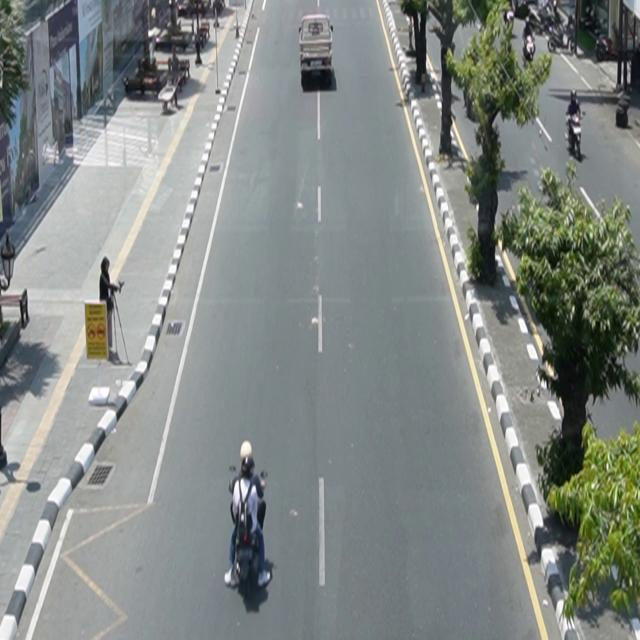car: (299, 14, 335, 75)
